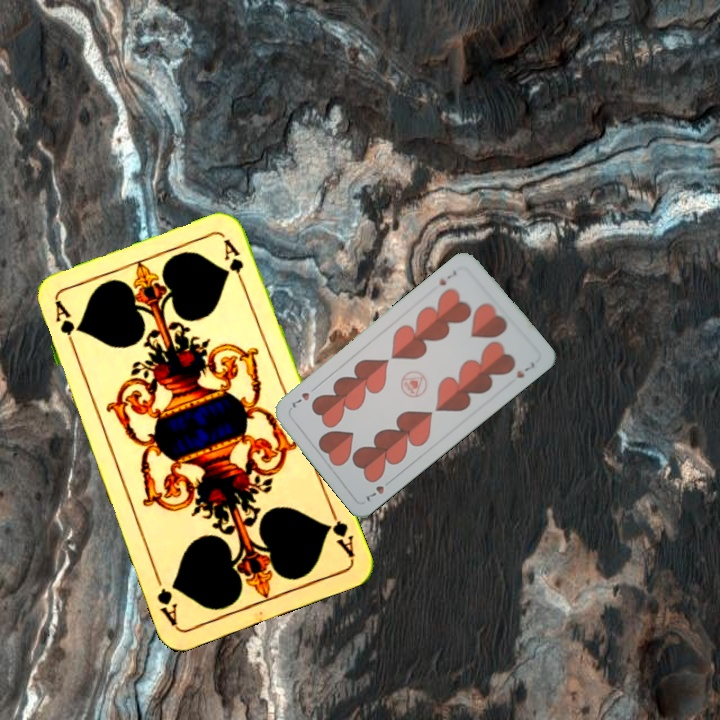GA: (323, 504, 357, 561), (51, 297, 80, 355)
H7: (362, 475, 395, 504), (435, 266, 459, 288)
